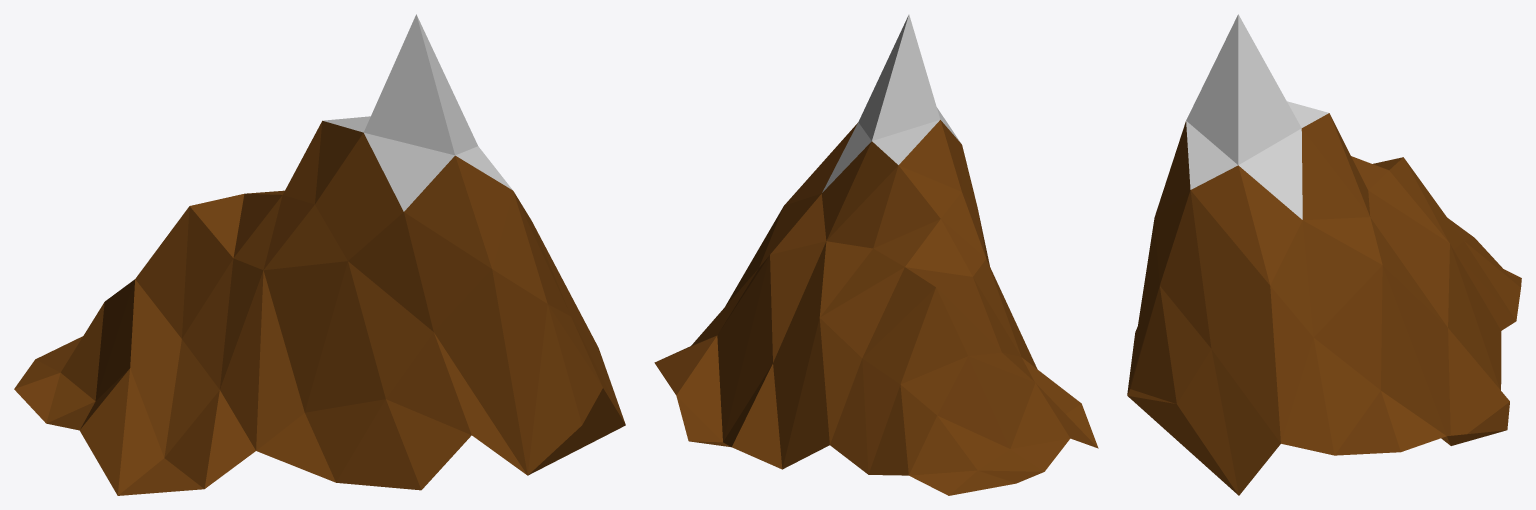
The model's file is mountain2.fbx.
3 renders of one model, left to right at view 1: azimuth 30°, elevation 25°; view 2: azimuth 150°, elevation 25°; view 3: azimuth 270°, elevation 25°, orthographic. The views are drawn at different scales.
Visible parts, largest first — view 1: Plane; view 2: Plane; view 3: Plane.
Part boxes in pixels (x1,y1,x2,y2): Plane: (14,14,625,495); Plane: (654,14,1098,495); Plane: (1127,14,1521,495).
Size of the model in its own units: 608 by 556 by 504.
